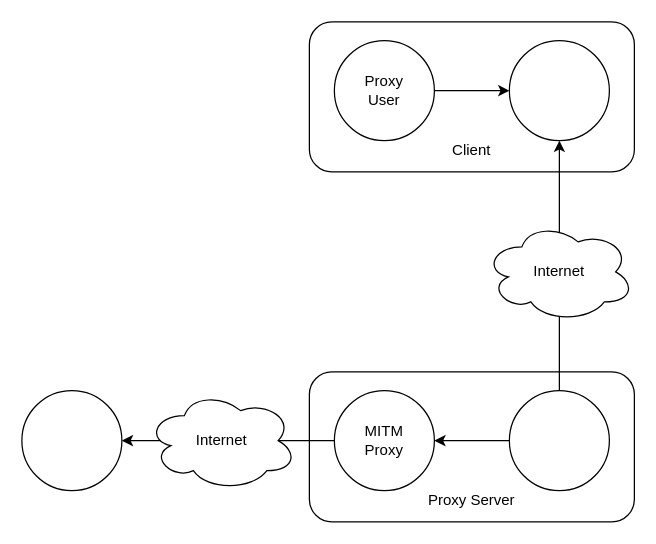
Some shapes in this 656 by 544 pixel diagram are drawn without their labels. The shapes that lost their labels are listed below. From the top down, each one's centre as x and y in pixels, then its label:
the point at 558,90: Passive Relay (Proxy)
the point at 71,440: Destination Server
the point at 558,440: Active Relay
